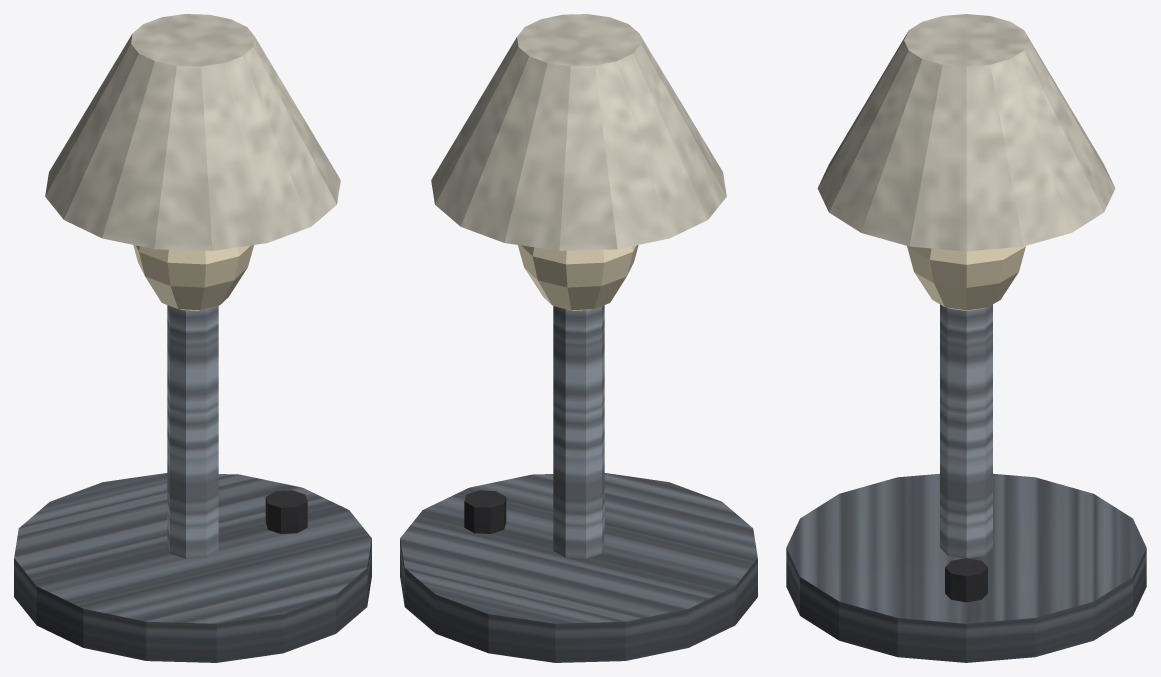
Rendered from desk_lamp.fbx.
3 views of the same model, side by side, from view 1: azimuth 30°, elevation 25°; view 2: azimuth 150°, elevation 25°; view 3: azimuth 270°, elevation 25° (orthographic).
Visible parts, largest first — view 1: desk_lamp; view 2: desk_lamp; view 3: desk_lamp.
Boxes of the visible parts, <box> form: desk_lamp: <box>14,14,371,662</box>; desk_lamp: <box>400,14,757,662</box>; desk_lamp: <box>786,14,1146,662</box>.
Bounding box in the file's own units: 15 × 25.1 × 15.
